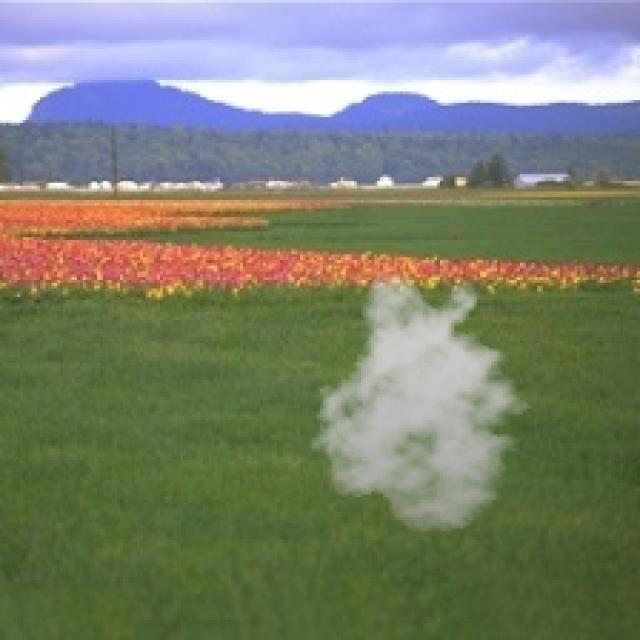Smoke: (303, 272, 543, 534)
